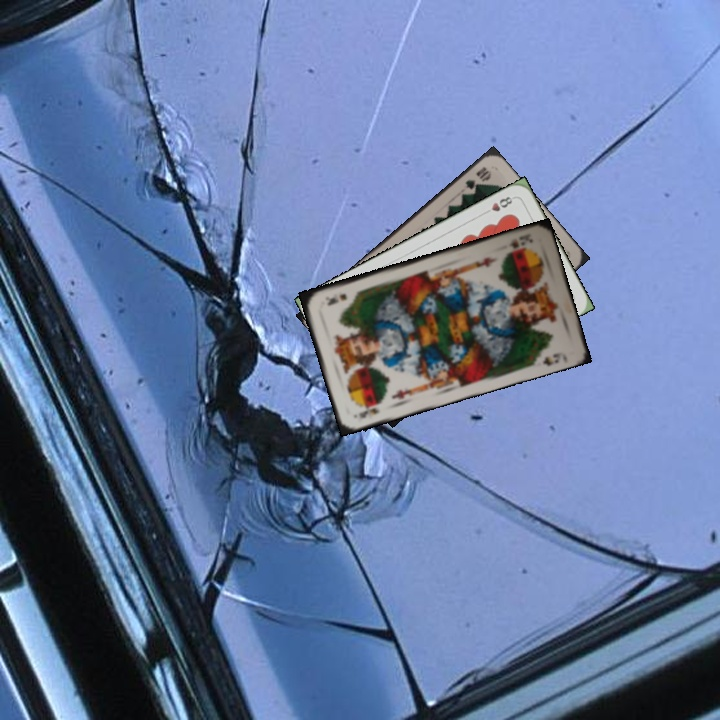G10: (461, 162, 494, 192)
H8: (479, 192, 516, 217)
SK: (354, 398, 385, 421), (504, 229, 536, 251)
